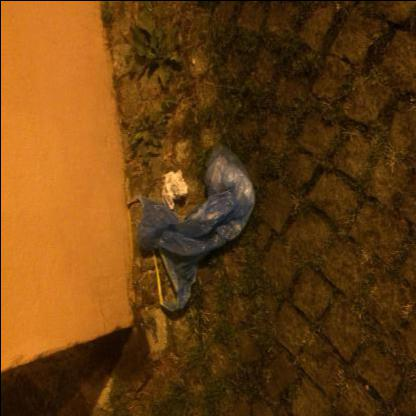Paper: (161, 169, 187, 209)
Plastic bag - wrapper: (136, 141, 254, 311)
